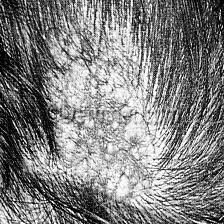Benign Marking or Mole: (47, 28, 133, 92)
